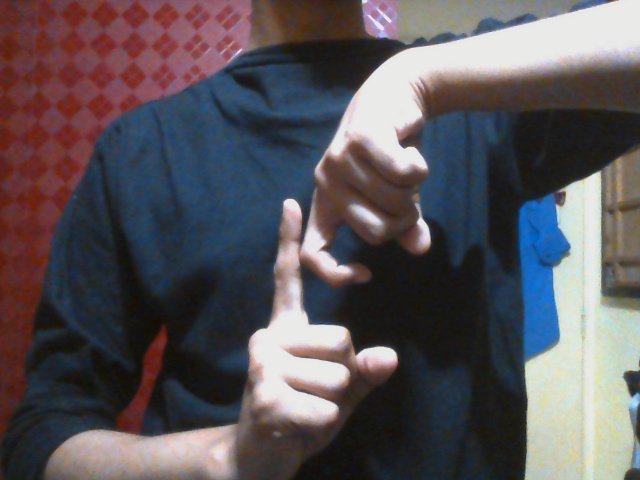K: (242, 110, 431, 460)
